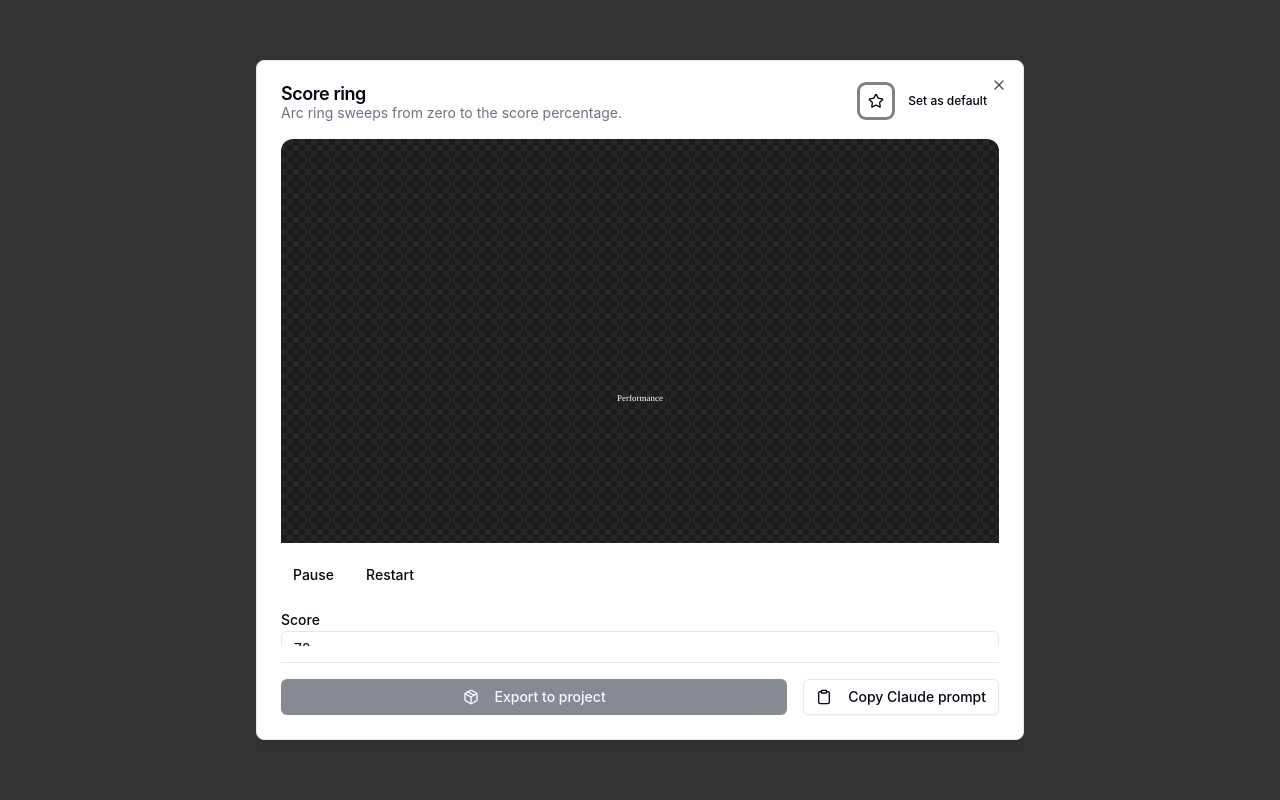
MotionTemplateDialog › Dialog and preview › shows Pause and Restart buttons; Pause toggles to Play
Check: the button "Restart" is shown, box [354,559,426,591]
Click the button "Pause": (314, 575) [281,559,346,591]
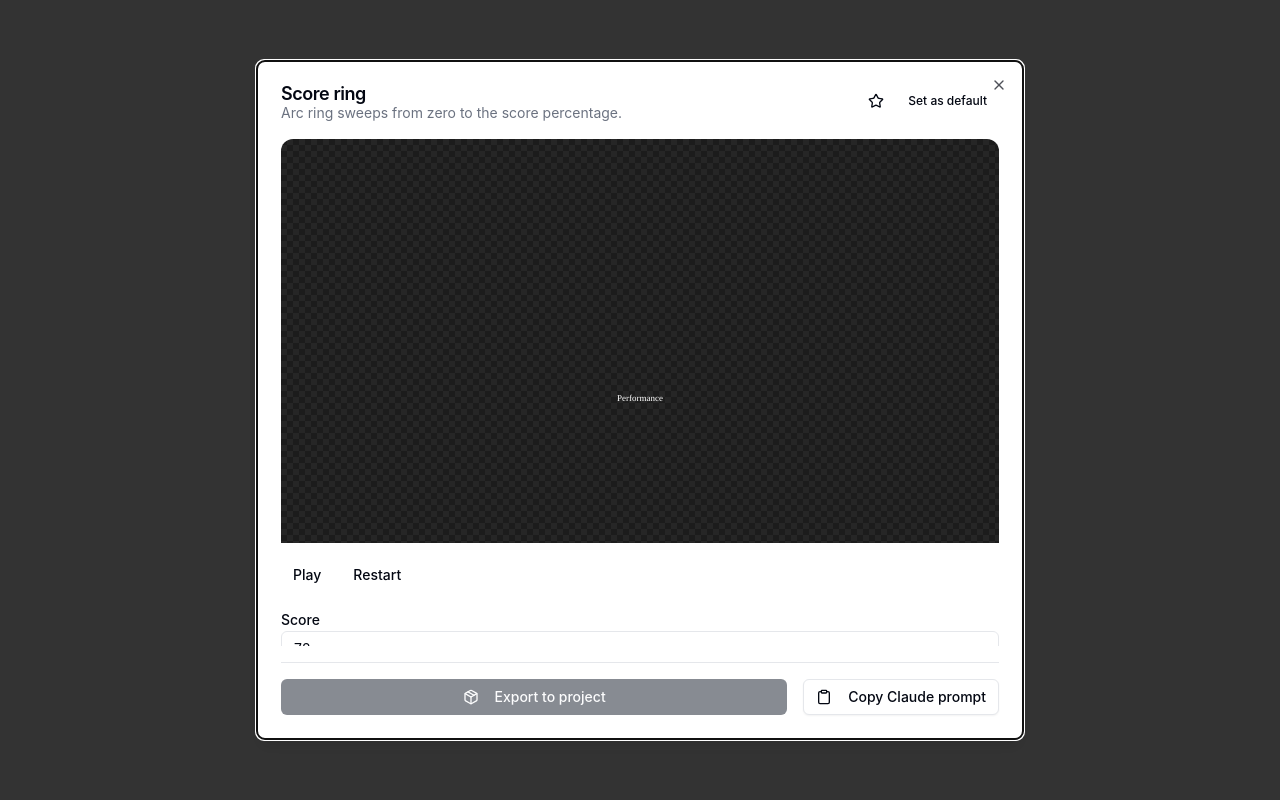
Check: the button "Play" is shown, box [281,559,333,591]
